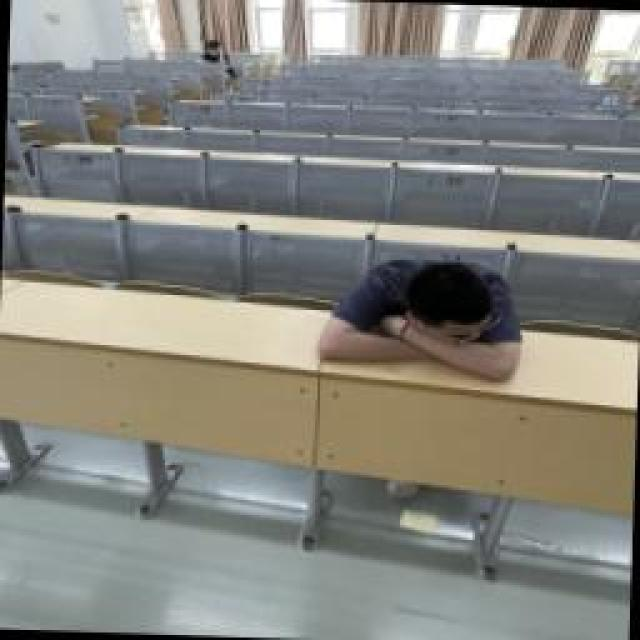sleep: (317, 255, 525, 390)
study: (200, 40, 228, 62)
